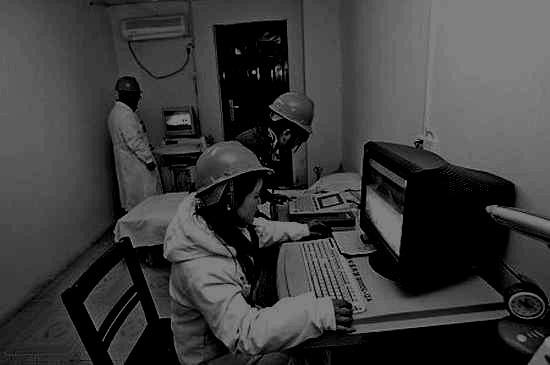helmet: (191, 140, 275, 228), (268, 91, 316, 152), (114, 75, 144, 111)
